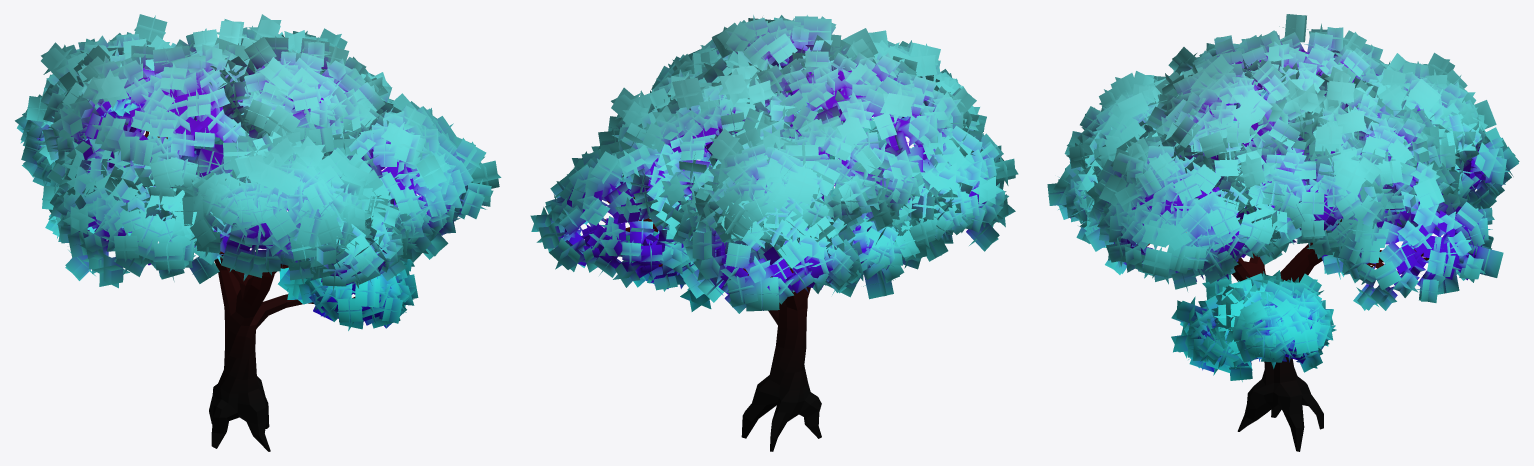
Rendered from SM_Env_Tree_Meadow_02.FBX.
The picture shows the model from 3 angles, left to right: view 1: azimuth 30°, elevation 25°; view 2: azimuth 150°, elevation 25°; view 3: azimuth 270°, elevation 25°; orthographic projection. The views are drawn at different scales.
Parts seen in each view (by area): view 1: SM_Env_Tree_Meadow_02; view 2: SM_Env_Tree_Meadow_02; view 3: SM_Env_Tree_Meadow_02.
Boxes of the visible parts, x1,y1,x2,y2 form: SM_Env_Tree_Meadow_02: [15, 14, 501, 451]; SM_Env_Tree_Meadow_02: [530, 15, 1018, 451]; SM_Env_Tree_Meadow_02: [1047, 14, 1519, 451].
Size of the model in its own units: 865 by 977 by 873.
